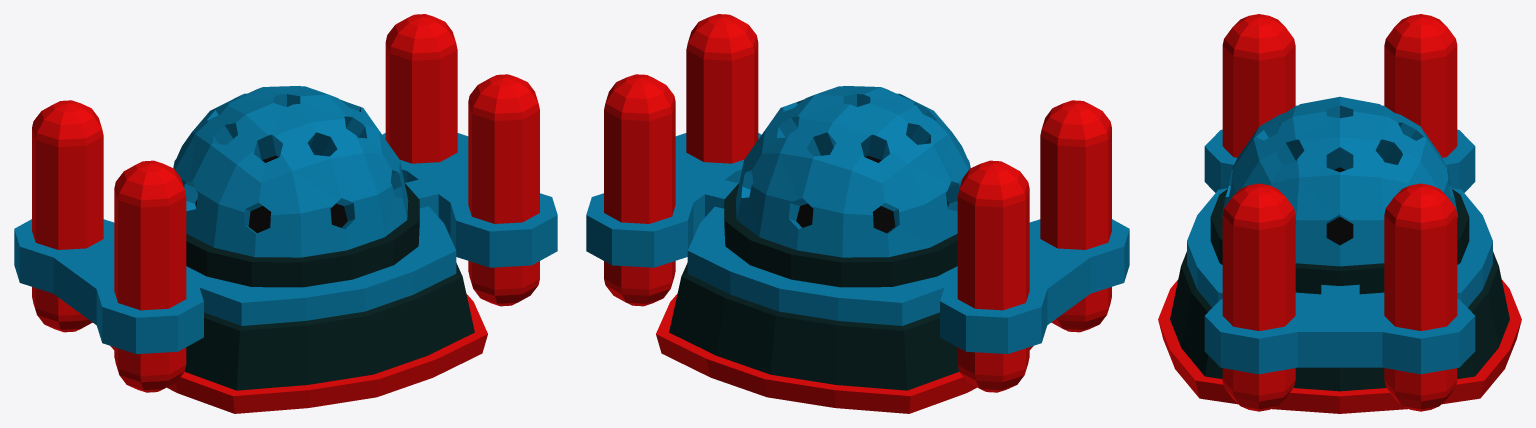
Rendered from ElexirBuilding.fbx.
3 renders of one model, left to right at view 1: azimuth 30°, elevation 25°; view 2: azimuth 150°, elevation 25°; view 3: azimuth 270°, elevation 25°, orthographic.
Visible parts, largest first — view 1: ElexirBuilding; view 2: ElexirBuilding; view 3: ElexirBuilding.
Boxes of the visible parts, x1,y1,x2,y2 form: ElexirBuilding: [14, 14, 557, 413]; ElexirBuilding: [586, 14, 1129, 413]; ElexirBuilding: [1158, 14, 1521, 413].
Size of the model in its own units: 9.35 by 4.79 by 6.67.
